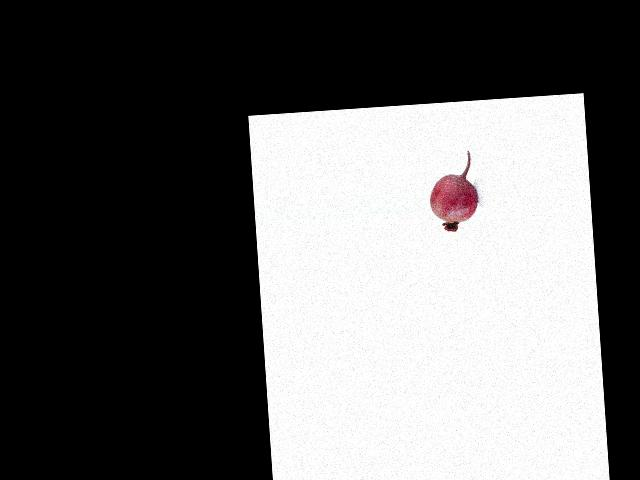beet: (427, 150, 480, 232)
